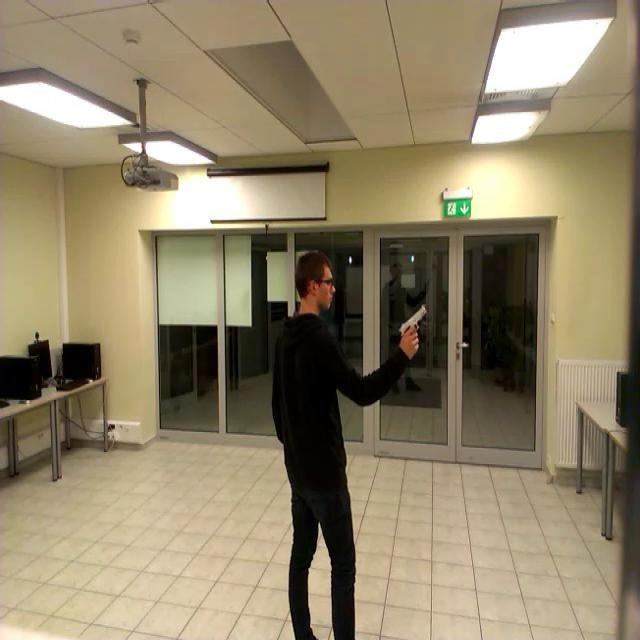weapon: (397, 305, 429, 337)
